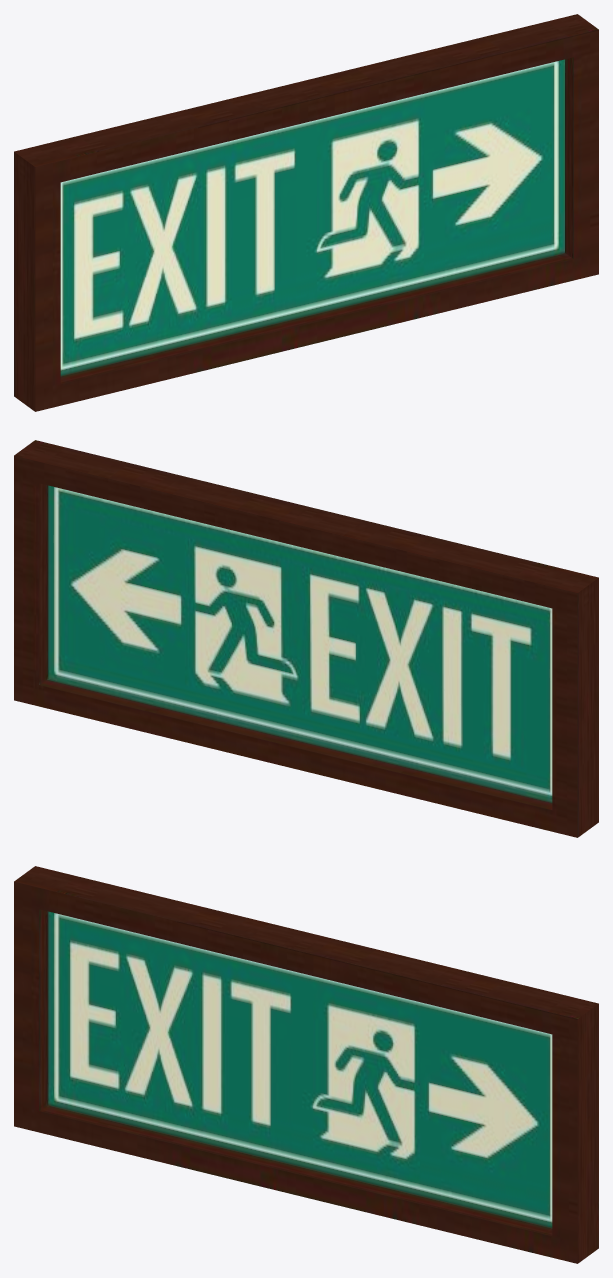
The model's file is sf_exit_sign.glb.
3 renders of one model, top to bottom at view 1: azimuth 30°, elevation 25°; view 2: azimuth 150°, elevation 25°; view 3: azimuth 330°, elevation 25°, orthographic.
Parts seen in each view (by area): view 1: exit-sign_Baked_0; view 2: exit-sign_Baked_0; view 3: exit-sign_Baked_0.
Part boxes in pixels (left/top/right/bottom): exit-sign_Baked_0: left=14, top=14, right=598, bottom=411; exit-sign_Baked_0: left=14, top=440, right=598, bottom=837; exit-sign_Baked_0: left=14, top=866, right=598, bottom=1263.
Bounding box in the file's own units: 0.5 × 0.2075 × 0.0327.
Materials: 1 (1 with a texture image).
